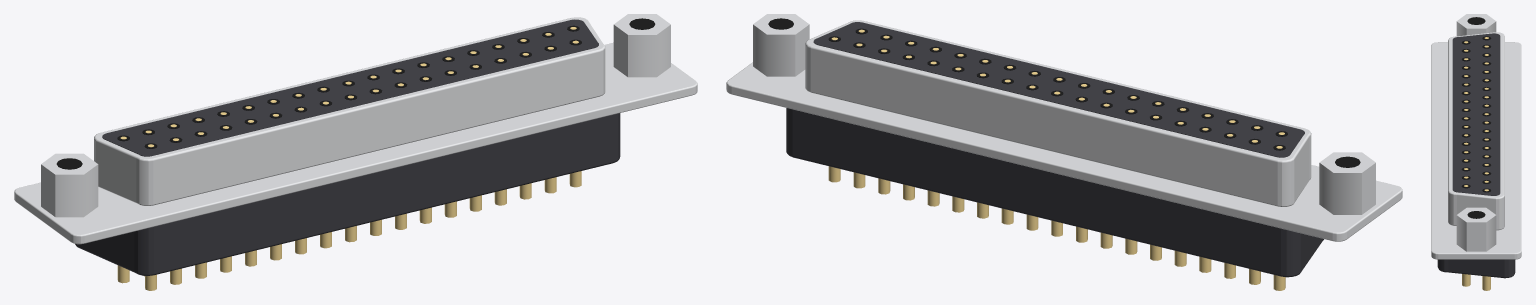
Rendered from db37-female.glb.
3 renders of one model, left to right at view 1: azimuth 30°, elevation 25°; view 2: azimuth 150°, elevation 25°; view 3: azimuth 270°, elevation 25°, orthographic. The views are drawn at different scales.
Parts seen in each view (by area): view 1: Carcaca_D, Corpo_Traseiro, Flange, Isolante, Espacador.001, Espacador; view 2: Carcaca_D, Corpo_Traseiro, Flange, Isolante, Espacador.001, Espacador; view 3: Flange, Isolante, Carcaca_D, Espacador, Corpo_Traseiro, Espacador.001, Copo_Solda.018, Espacador_Rosca, Espacador_Rosca.001, Copo_Solda.036.
Part boxes in pixels (left/top/right/bottom): Carcaca_D: left=94, top=17, right=605, bottom=205; Corpo_Traseiro: left=75, top=113, right=620, bottom=275; Flange: left=14, top=42, right=697, bottom=244; Isolante: left=102, top=19, right=598, bottom=156; Espacador.001: left=41, top=153, right=98, bottom=217; Espacador: left=613, top=14, right=670, bottom=77; Carcaca_D: left=805, top=20, right=1311, bottom=206; Corpo_Traseiro: left=786, top=108, right=1323, bottom=277; Flange: left=726, top=62, right=1402, bottom=241; Isolante: left=813, top=22, right=1304, bottom=157; Espacador.001: left=1319, top=152, right=1375, bottom=214; Espacador: left=753, top=14, right=809, bottom=76; Flange: left=1431, top=42, right=1521, bottom=259; Isolante: left=1452, top=33, right=1500, bottom=195; Carcaca_D: left=1448, top=32, right=1504, bottom=230; Espacador: left=1456, top=207, right=1496, bottom=251; Corpo_Traseiro: left=1437, top=259, right=1515, bottom=278; Espacador.001: left=1456, top=14, right=1496, bottom=36; Copo_Solda.018: left=1482, top=276, right=1490, bottom=290; Espacador_Rosca: left=1467, top=211, right=1485, bottom=218; Espacador_Rosca.001: left=1467, top=17, right=1485, bottom=24; Copo_Solda.036: left=1462, top=274, right=1470, bottom=286.
Size of the model in its own units: 69.4 by 15.12 by 12.55.
